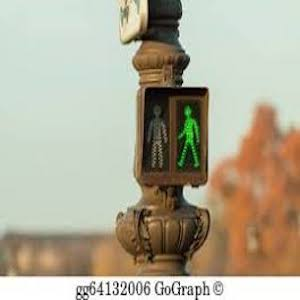green: (177, 105, 206, 168)
